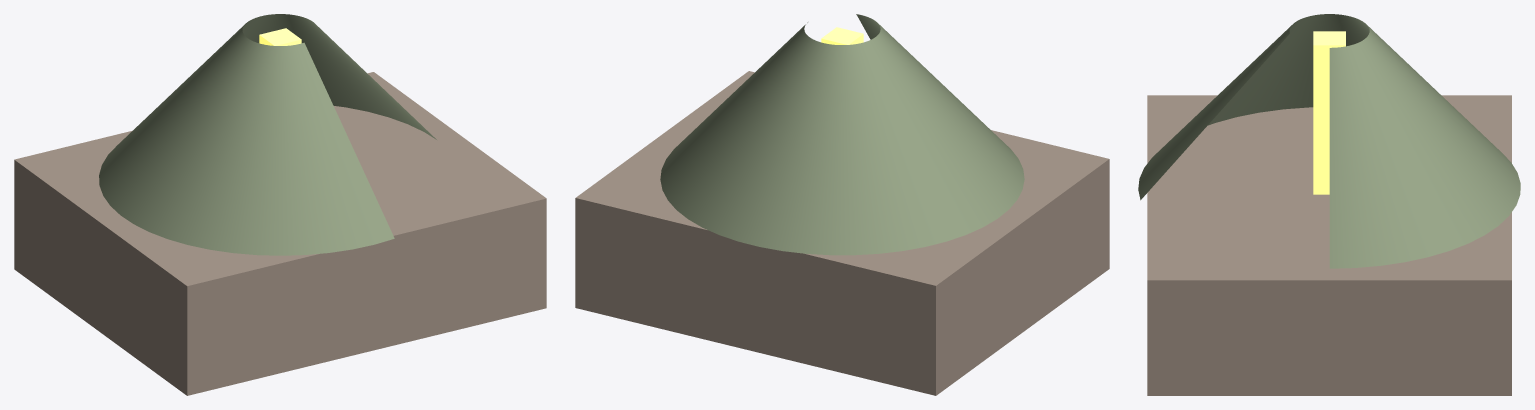
The model's file is vulkanisme.glb.
3 views of the same model, side by side, from view 1: azimuth 30°, elevation 25°; view 2: azimuth 150°, elevation 25°; view 3: azimuth 270°, elevation 25° (orthographic). The views are drawn at different scales.
Visible parts, largest first — view 1: Crust_Base, Volcano_Cone, Conduit_Diatrema; view 2: Crust_Base, Volcano_Cone, Conduit_Diatrema; view 3: Crust_Base, Volcano_Cone, Conduit_Diatrema.
Boxes of the visible parts, x1,y1,x2,y2 form: Crust_Base: (14,72,546,395); Volcano_Cone: (99,14,436,255); Conduit_Diatrema: (259,28,301,45); Crust_Base: (575,71,1109,395); Volcano_Cone: (660,14,1024,255); Conduit_Diatrema: (821,27,863,44); Crust_Base: (1147,95,1511,395); Volcano_Cone: (1138,14,1520,268); Conduit_Diatrema: (1313,31,1345,194).
Bounding box in the file's own units: 2.4 × 1.65 × 2.1.
